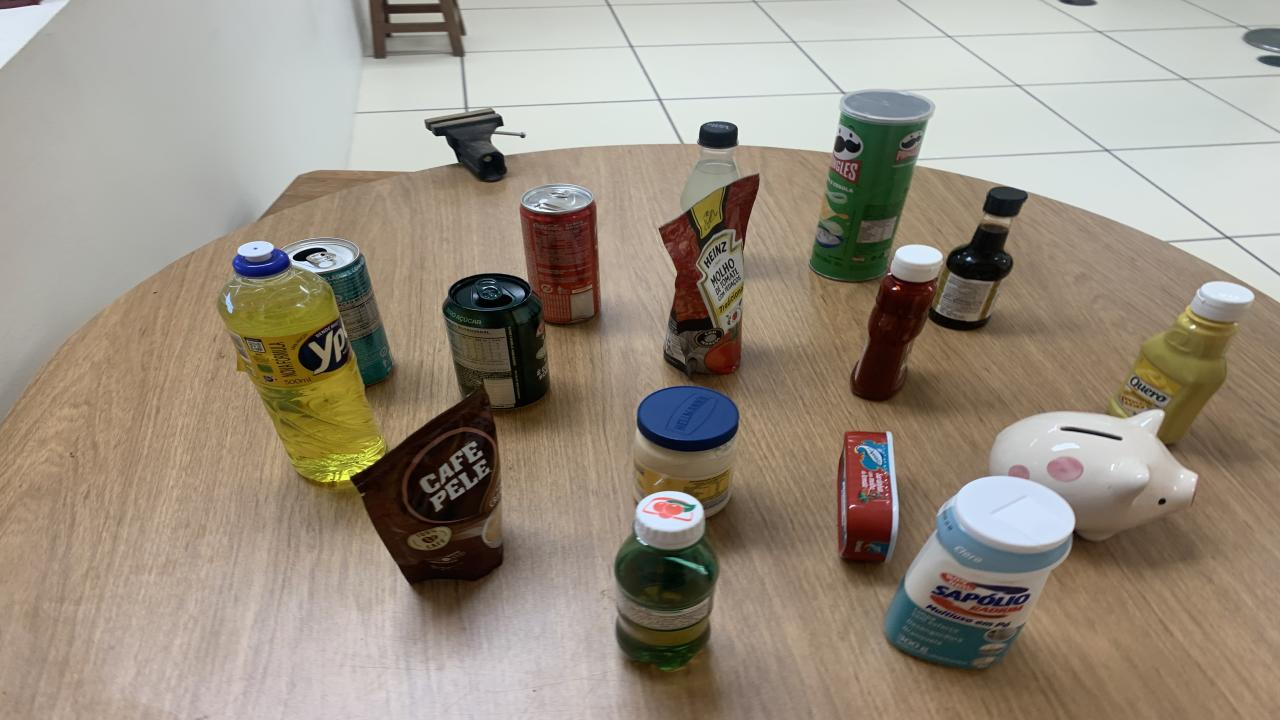Cleaner-Cleanup_Items: (885, 476, 1075, 668)
Coffee-Pantry_Items: (352, 390, 502, 583)
Coke-Drinks: (810, 90, 935, 281), (520, 184, 600, 324)
Detergent-Cleanup_Items: (218, 242, 385, 482)
English_Sauce-Pantry_Items: (930, 188, 1028, 330)
Guarana-Drinks: (615, 491, 718, 669)
Guarana_Can-Drinks: (442, 274, 550, 409)
Ketchup-Pantry_Items: (850, 246, 942, 401)
Mayonnaise-Pantry_Items: (632, 386, 738, 516)
Mustard-Pantry_Items: (1108, 281, 1255, 444)
Pig_Safe-Miscellaneous: (990, 409, 1198, 542)
Pringles-Snacks: (810, 90, 935, 281)
Soda-Drinks: (680, 122, 740, 212)
Tea-Drinks: (282, 236, 392, 384)
Tomato_Sauce-Pantry_Items: (660, 174, 760, 375)
Tuna_Can-Pantry_Items: (838, 431, 898, 562)
